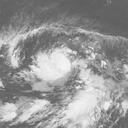cyclone: (32, 46, 71, 83)
